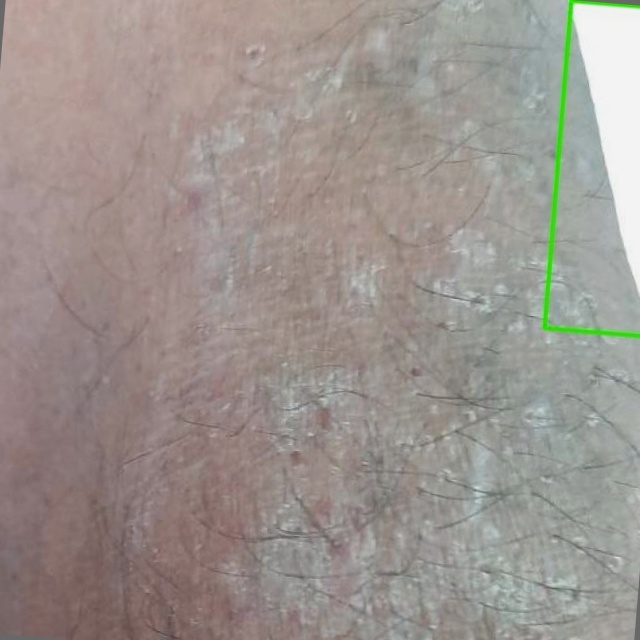Contact Dermatitis: (544, 0, 639, 337)
